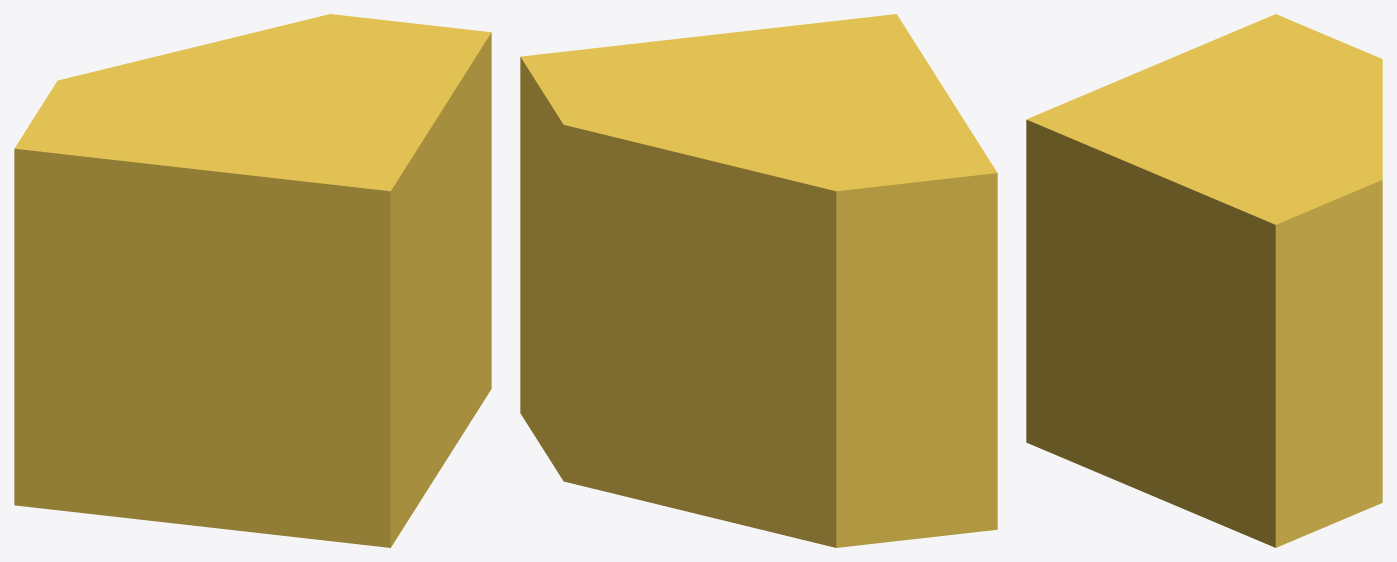
The model's file is Base_Straight.obj.
3 views of the same model, side by side, from view 1: azimuth 30°, elevation 25°; view 2: azimuth 150°, elevation 25°; view 3: azimuth 270°, elevation 25° (orthographic). The views are drawn at different scales.
Visible parts, largest first — view 1: Base_Straight; view 2: Base_Straight; view 3: Base_Straight.
Part boxes in pixels (x1,y1,x2,y2): Base_Straight: (14,14,491,547); Base_Straight: (520,14,997,547); Base_Straight: (1026,14,1382,547).
Bounding box in the file's own units: 0.7 × 0.5 × 0.5.
